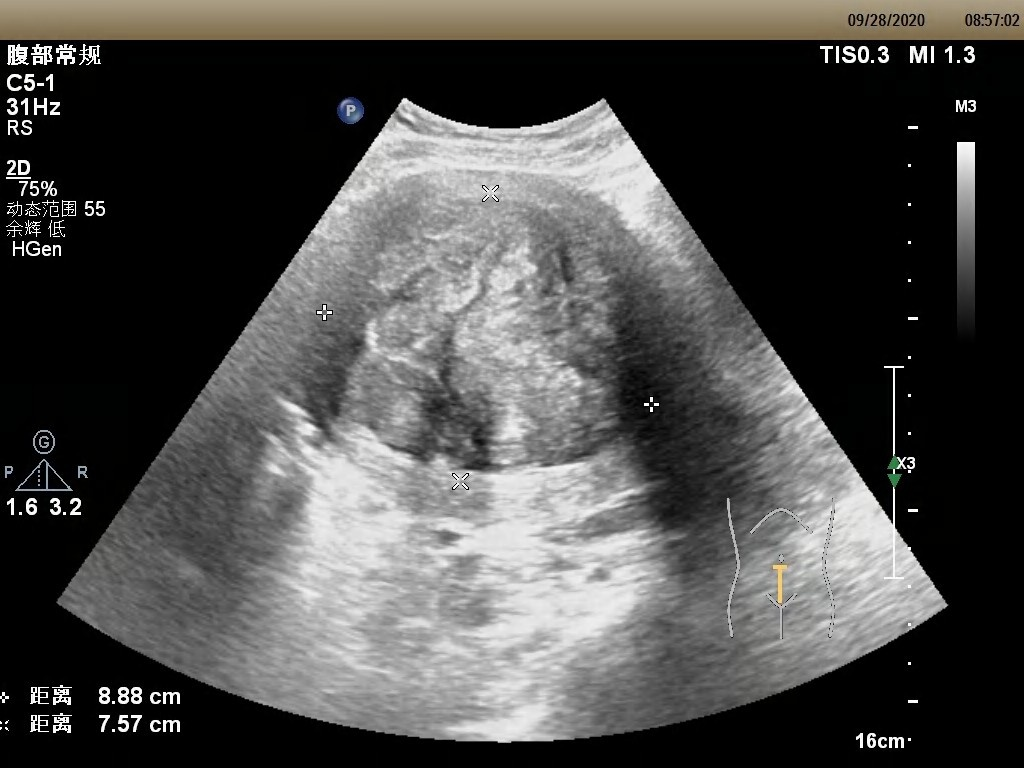肌瘤: (355, 209, 628, 464)
